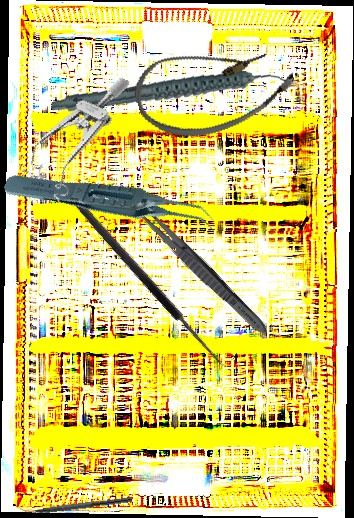Cannula: (126, 20, 303, 154)
Chopper: (16, 489, 133, 518)
Dressing Forceps: (127, 198, 273, 339)
Handpiece: (51, 51, 288, 136)
Hook Surgical: (67, 186, 237, 372)
Speculum: (16, 55, 131, 209)
Tissue Forceps: (1, 132, 221, 276)
